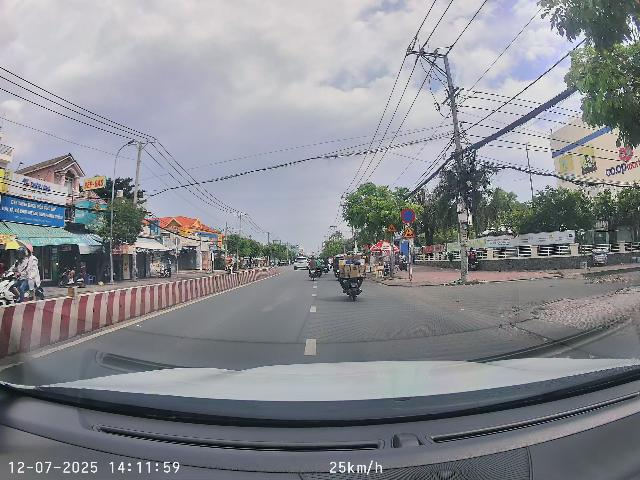131a-cam-do-xe: (401, 209, 415, 223)
225-chu-y-tre-em: (388, 223, 397, 232)
245-di-cham: (402, 226, 416, 238)
